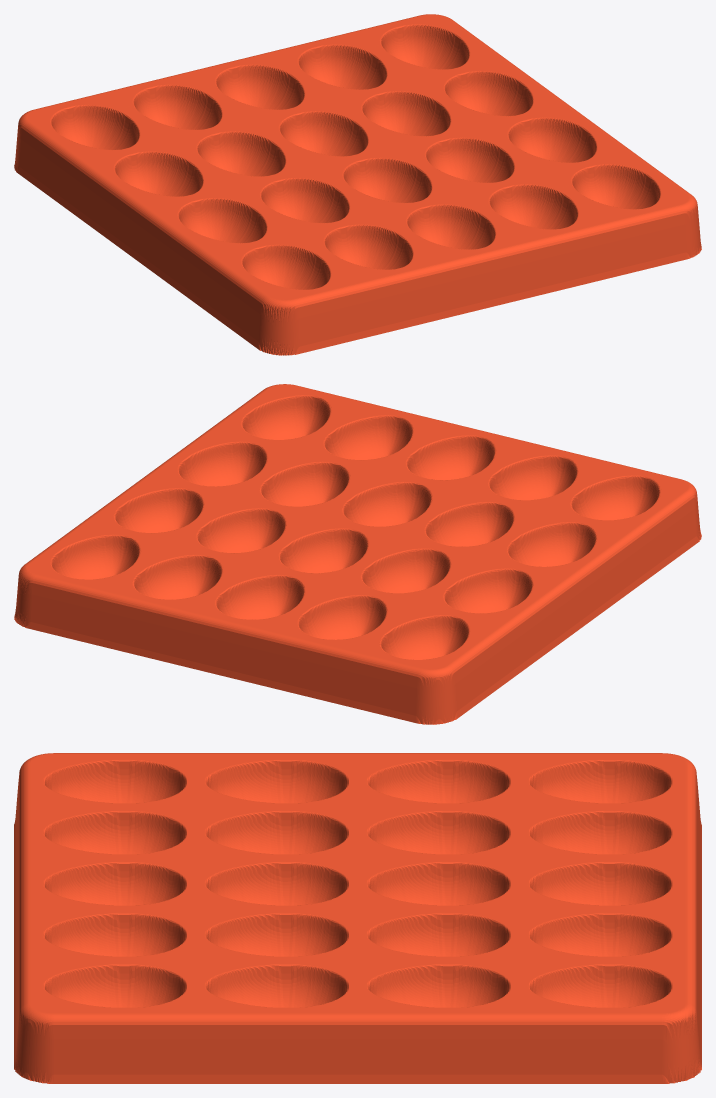
File: mold.glb
The picture shows the model from 3 angles, top to bottom: view 1: azimuth 30°, elevation 25°; view 2: azimuth 150°, elevation 25°; view 3: azimuth 270°, elevation 25°; orthographic projection. The views are drawn at different scales.
Visible parts, largest first — view 1: geometry_0; view 2: geometry_0; view 3: geometry_0.
Part boxes in pixels (x1,y1,x2,y2): geometry_0: (14, 14, 701, 355); geometry_0: (14, 384, 701, 724); geometry_0: (14, 753, 701, 1083).
Bounding box in the file's own units: 0.1467 × 0.0159 × 0.1563.
